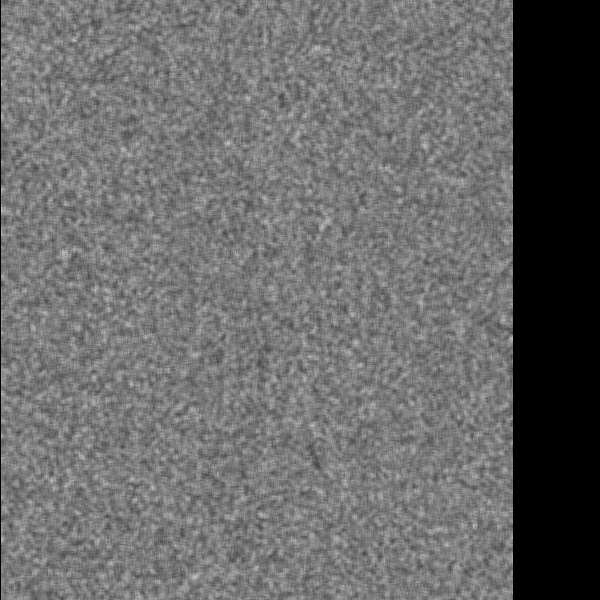spark: (93, 121, 180, 138), (128, 469, 150, 492)
